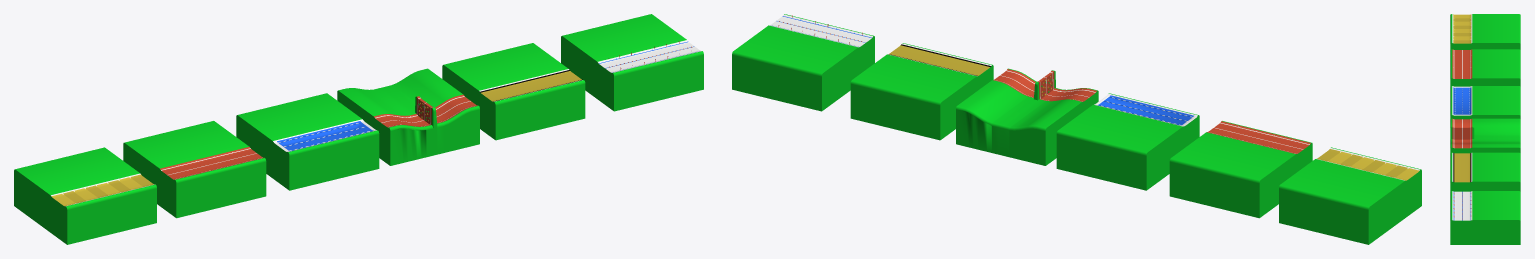
Rendered from Sports Race platforms.fbx.
3 renders of one model, left to right at view 1: azimuth 30°, elevation 25°; view 2: azimuth 150°, elevation 25°; view 3: azimuth 270°, elevation 25°, orthographic. The views are drawn at different scales.
Visible parts, largest first — view 1: sand, Skier, water, sprint, Cube.001, climber; view 2: sand, Skier, water, sprint, Cube.001, climber; view 3: Skier, Cube.001, sprint, sand, climber, water.
Part boxes in pixels (bbox=[...]): sand: bbox=[14, 147, 156, 244]; Skier: bbox=[561, 14, 703, 111]; water: bbox=[236, 93, 379, 190]; sprint: bbox=[123, 121, 266, 218]; Cube.001: bbox=[442, 43, 585, 140]; climber: bbox=[337, 68, 479, 165]; sand: bbox=[1279, 147, 1421, 244]; Skier: bbox=[732, 14, 874, 111]; water: bbox=[1056, 93, 1199, 190]; sprint: bbox=[1169, 121, 1312, 218]; Cube.001: bbox=[850, 43, 993, 140]; climber: bbox=[956, 68, 1098, 165]; Skier: bbox=[1450, 191, 1520, 244]; Cube.001: bbox=[1450, 152, 1520, 191]; sprint: bbox=[1450, 49, 1520, 86]; sand: bbox=[1450, 14, 1520, 49]; climber: bbox=[1450, 118, 1520, 153]; water: bbox=[1450, 86, 1520, 119].
Bounding box in the file's own units: 14184 × 993 × 2052.
